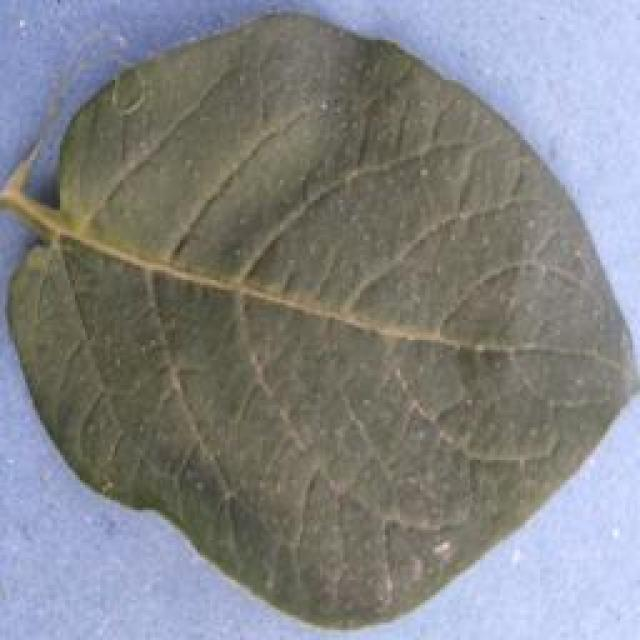Potato_Healthy: (4, 8, 631, 636)
